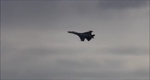maybay_muctieu: (67, 28, 96, 43)
